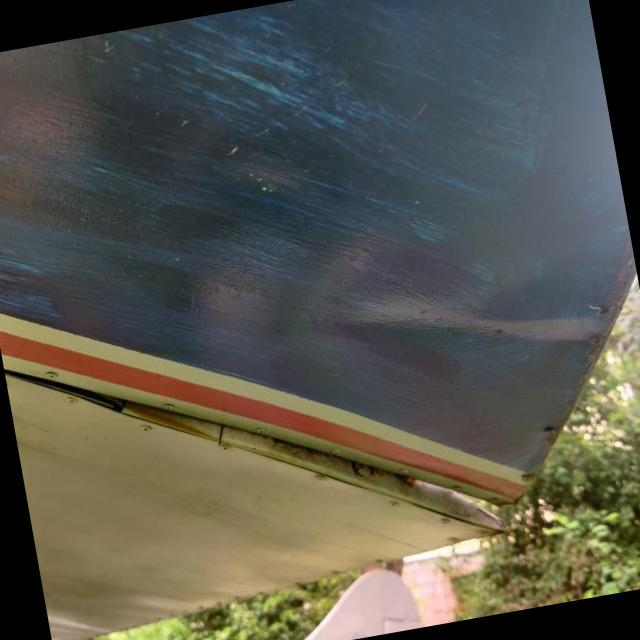Dent: (313, 219, 636, 472)
